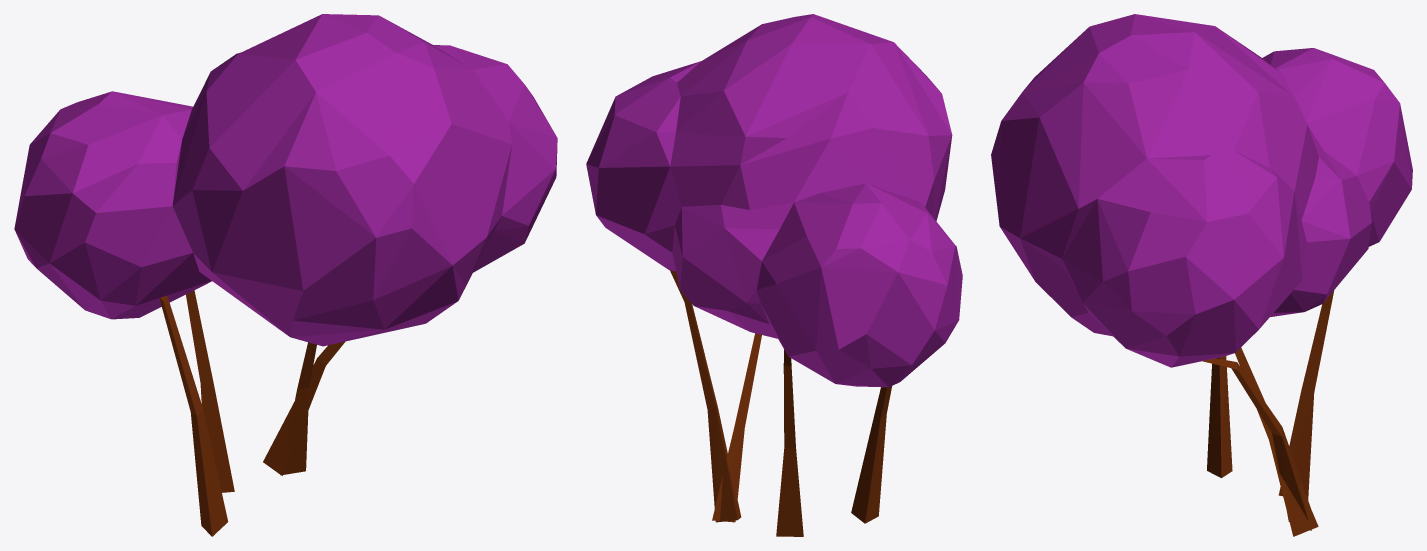
Rendered from TreeBush02.fbx.
3 renders of one model, left to right at view 1: azimuth 30°, elevation 25°; view 2: azimuth 150°, elevation 25°; view 3: azimuth 270°, elevation 25°, orthographic. The views are drawn at different scales.
Visible parts, largest first — view 1: Bush02; view 2: Bush02; view 3: Bush02.
Boxes of the visible parts, x1,y1,x2,y2 form: Bush02: (14,14,557,536); Bush02: (586,14,962,536); Bush02: (991,14,1412,536).
Bounding box in the file's own units: 115 × 122 × 95.22.
